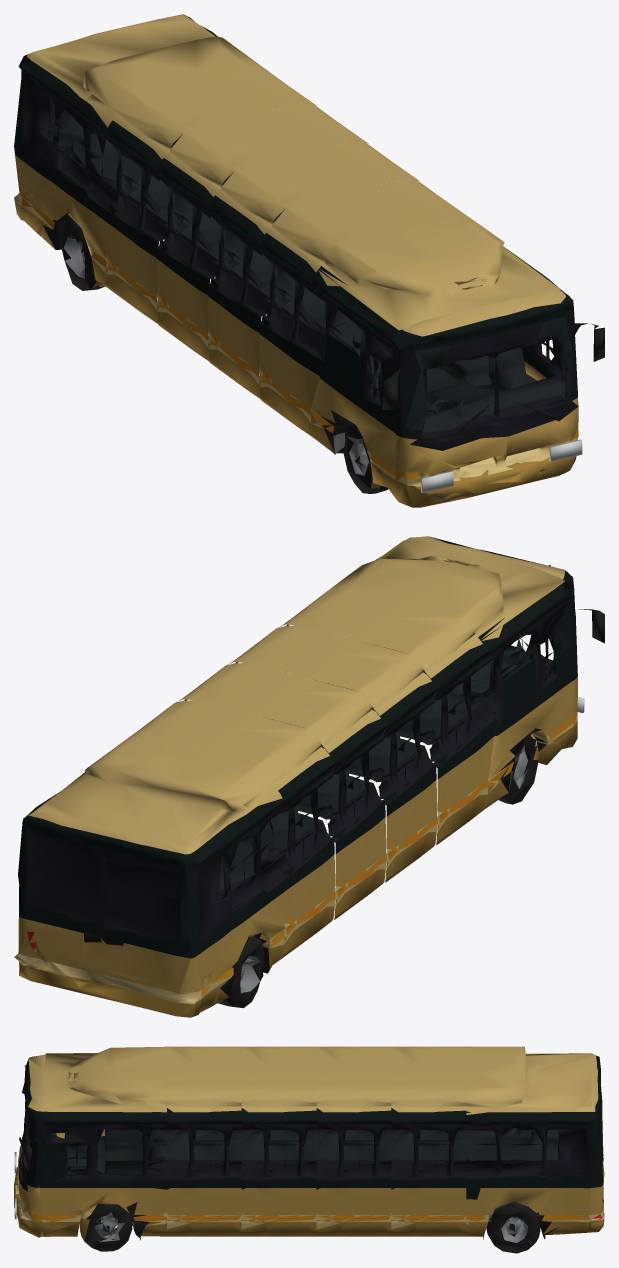
File: mtc_premium.glb
3 views of the same model, one above another, from view 1: azimuth 30°, elevation 25°; view 2: azimuth 150°, elevation 25°; view 3: azimuth 270°, elevation 25° (orthographic). The views are drawn at different scales.
Parts seen in each view (by area): view 1: geometry_0; view 2: geometry_0; view 3: geometry_0.
Part boxes in pixels (x1,y1,x2,y2): geometry_0: (14,14,604,507); geometry_0: (14,536,604,1017); geometry_0: (14,1046,604,1253).
Size of the model in its own units: 3.22 by 2.95 by 10.11.
